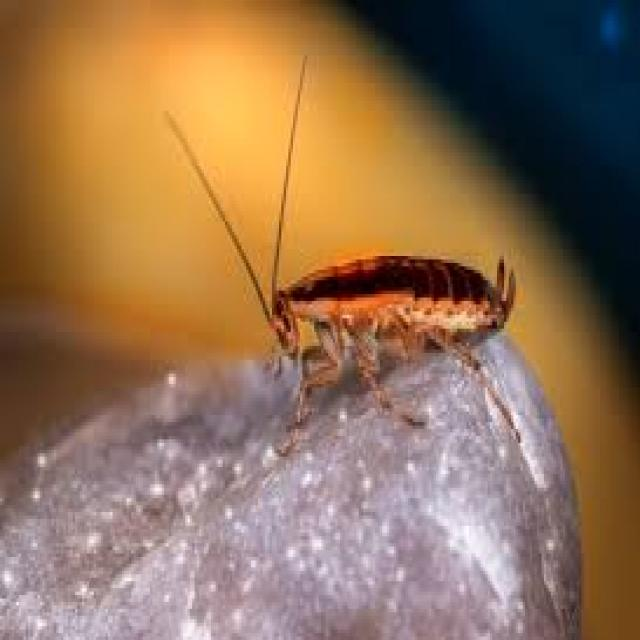Cockroach: (168, 32, 542, 479)
